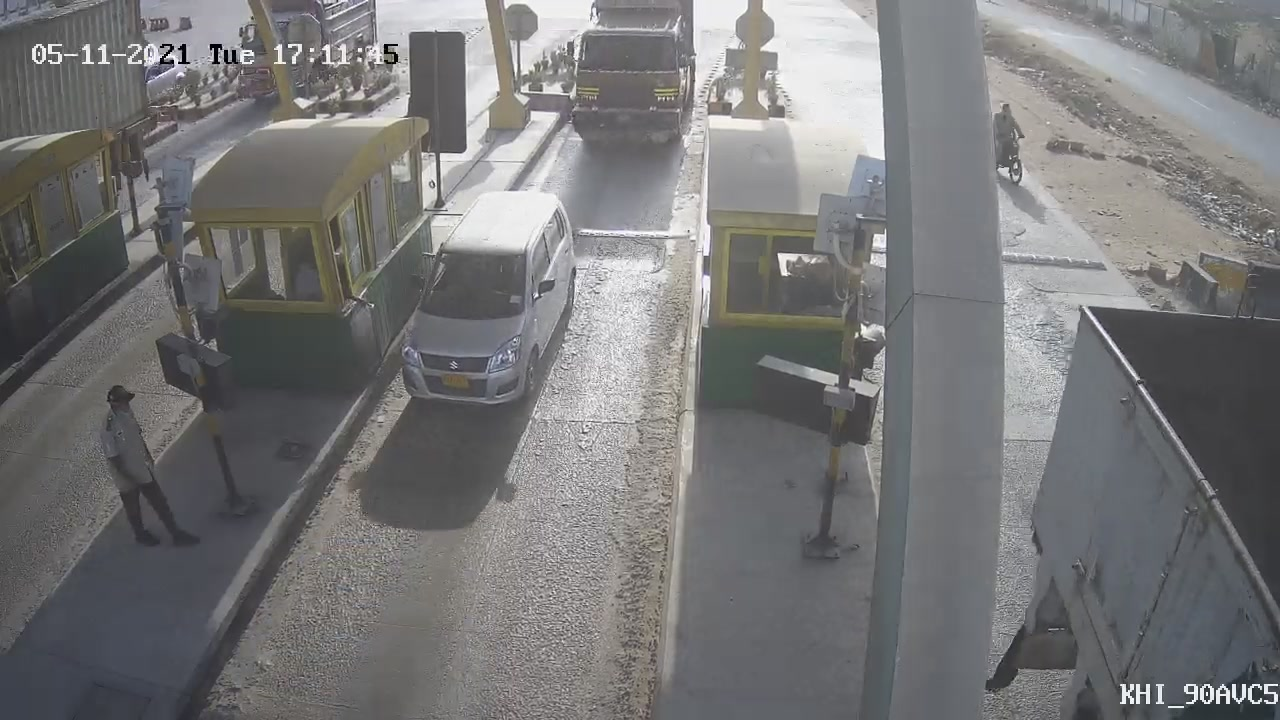F1: (376, 164, 598, 422)
